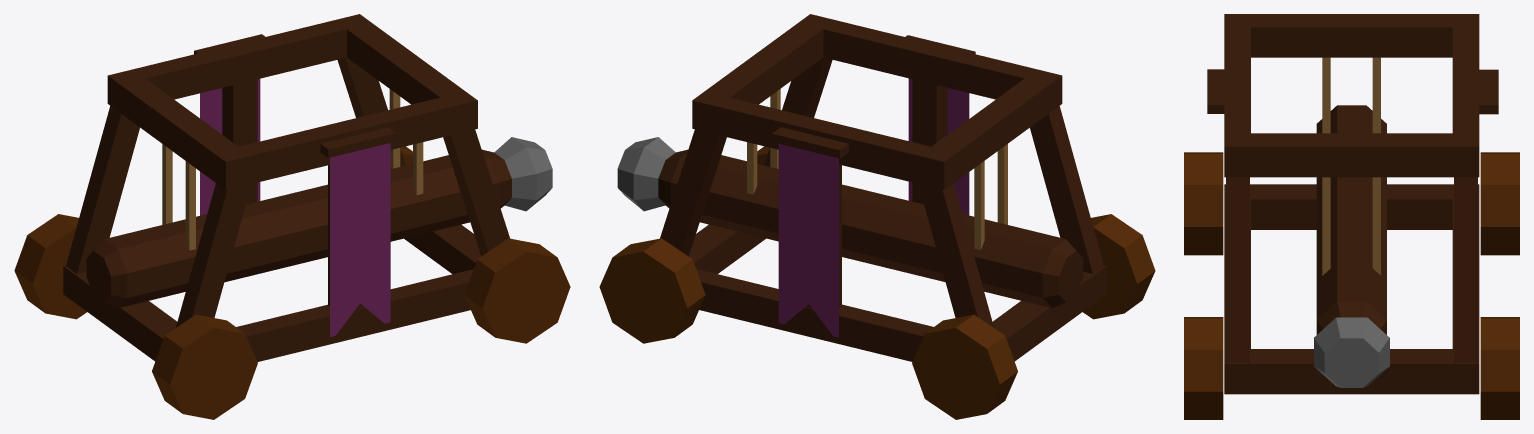
File: Ram.fbx
3 renders of one model, left to right at view 1: azimuth 30°, elevation 25°; view 2: azimuth 150°, elevation 25°; view 3: azimuth 270°, elevation 25°, orthographic. The views are drawn at different scales.
Parts seen in each view (by area): view 1: Cube.4086, Cylinder.379, Cylinder.391, Plane.1276, Cylinder.393, Plane.1275, Plane.1274, Plane.1272; view 2: Cube.4086, Cylinder.379, Cylinder.391, Plane.1275, Cylinder.393, Plane.1276, Plane.1274, Plane.1272; view 3: Cube.4086, Cylinder.379, Cylinder.391, Cylinder.393, Plane.1272, Plane.1274, Plane.1275, Plane.1276.
Part boxes in pixels (x1=…): Cube.4086: x1=63, y1=14, x2=509, y2=361; Cylinder.379: x1=86, y1=137, x2=552, y2=308; Cylinder.391: x1=14, y1=214, x2=257, y2=419; Plane.1276: x1=320, y1=127, x2=396, y2=336; Cylinder.393: x1=400, y1=146, x2=570, y2=343; Plane.1275: x1=194, y1=34, x2=265, y2=215; Plane.1274: x1=162, y1=144, x2=195, y2=250; Plane.1272: x1=389, y1=89, x2=423, y2=194; Cube.4086: x1=660, y1=14, x2=1106, y2=361; Cylinder.379: x1=617, y1=137, x2=1083, y2=308; Cylinder.391: x1=912, y1=214, x2=1155, y2=419; Plane.1275: x1=772, y1=127, x2=848, y2=337; Cylinder.393: x1=599, y1=146, x2=769, y2=343; Plane.1276: x1=905, y1=35, x2=975, y2=215; Plane.1274: x1=974, y1=144, x2=1007, y2=250; Plane.1272: x1=747, y1=89, x2=780, y2=194; Cube.4086: x1=1224, y1=14, x2=1479, y2=394; Cylinder.379: x1=1314, y1=105, x2=1389, y2=387; Cylinder.391: x1=1184, y1=152, x2=1519, y2=255; Cylinder.393: x1=1184, y1=317, x2=1519, y2=419; Plane.1272: x1=1322, y1=177, x2=1380, y2=275; Plane.1274: x1=1322, y1=57, x2=1380, y2=133; Plane.1275: x1=1479, y1=69, x2=1498, y2=114; Plane.1276: x1=1207, y1=69, x2=1224, y2=113.
Bounding box in the file's own units: 115 × 58.28 × 69.37.
